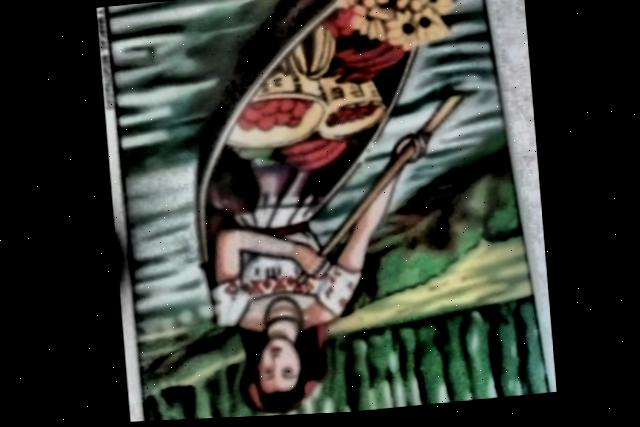La Chalupa: (104, 0, 547, 422)
